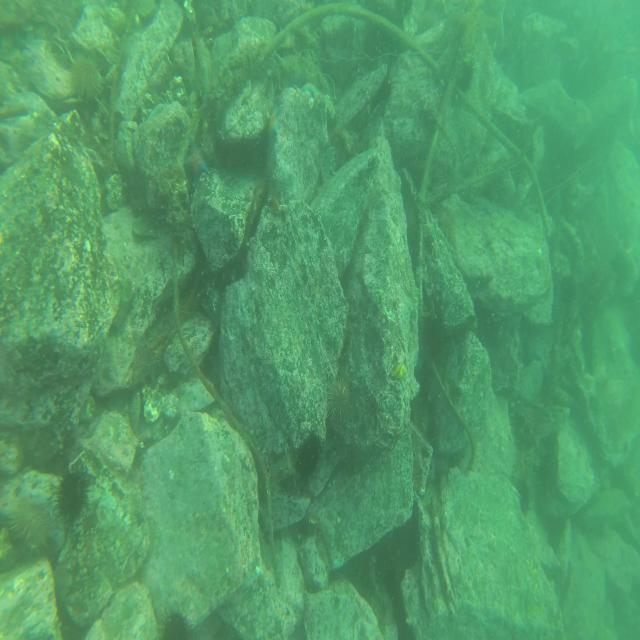echinus: (8, 499, 48, 558), (51, 471, 89, 530), (70, 50, 102, 106), (293, 428, 322, 488), (325, 375, 355, 432), (155, 605, 195, 640)
starfish: (185, 143, 213, 188), (266, 100, 285, 143), (300, 78, 322, 102)
